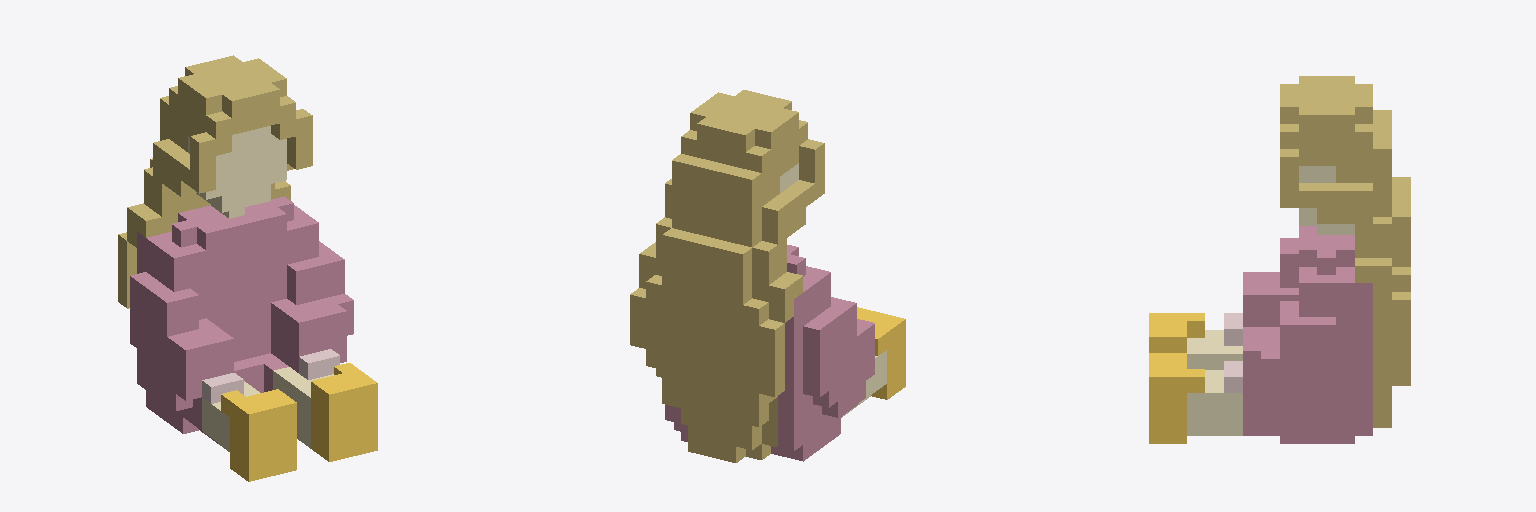
The picture shows the model from 3 angles: view 1: azimuth 30°, elevation 25°; view 2: azimuth 150°, elevation 25°; view 3: azimuth 270°, elevation 25°; orthographic projection.
Visible parts, largest first — view 1: object 1; view 2: object 1; view 3: object 1.
Boxes of the visible parts, <box> form: object 1: <box>118,55,377,481</box>; object 1: <box>630,90,905,462</box>; object 1: <box>1149,76,1410,443</box>.
Size of the model in its own units: 1.1 by 1.9 by 1.4.
1 materials, 1 textured.